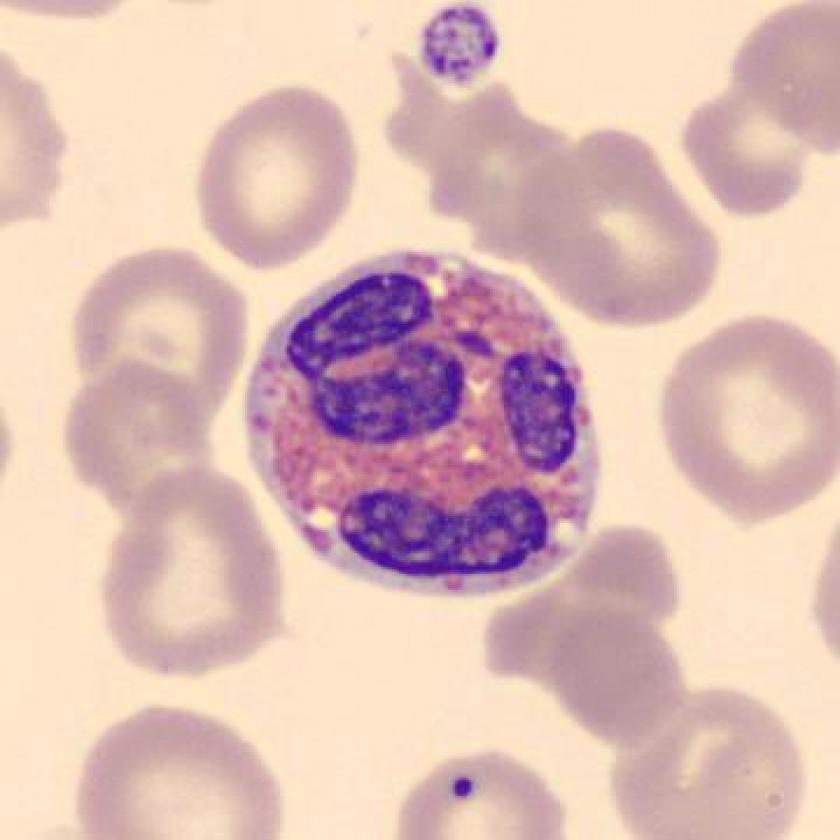eosinophil: (235, 242, 613, 607)
